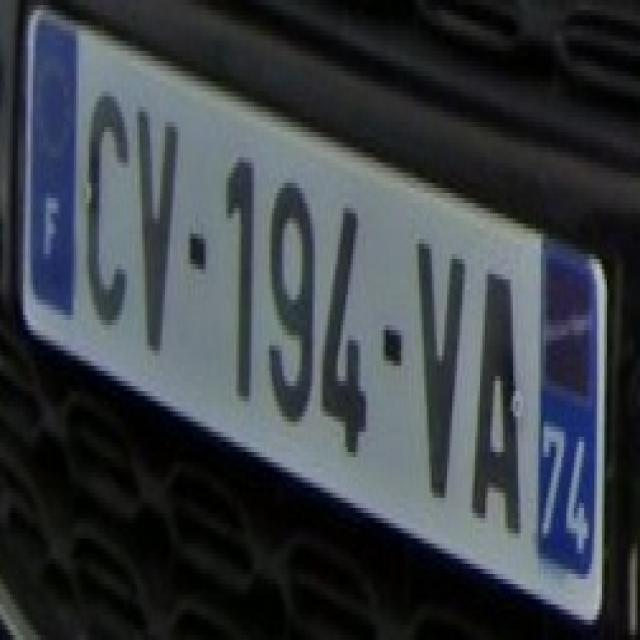EU: (7, 0, 599, 633)
France: (28, 14, 79, 319)
